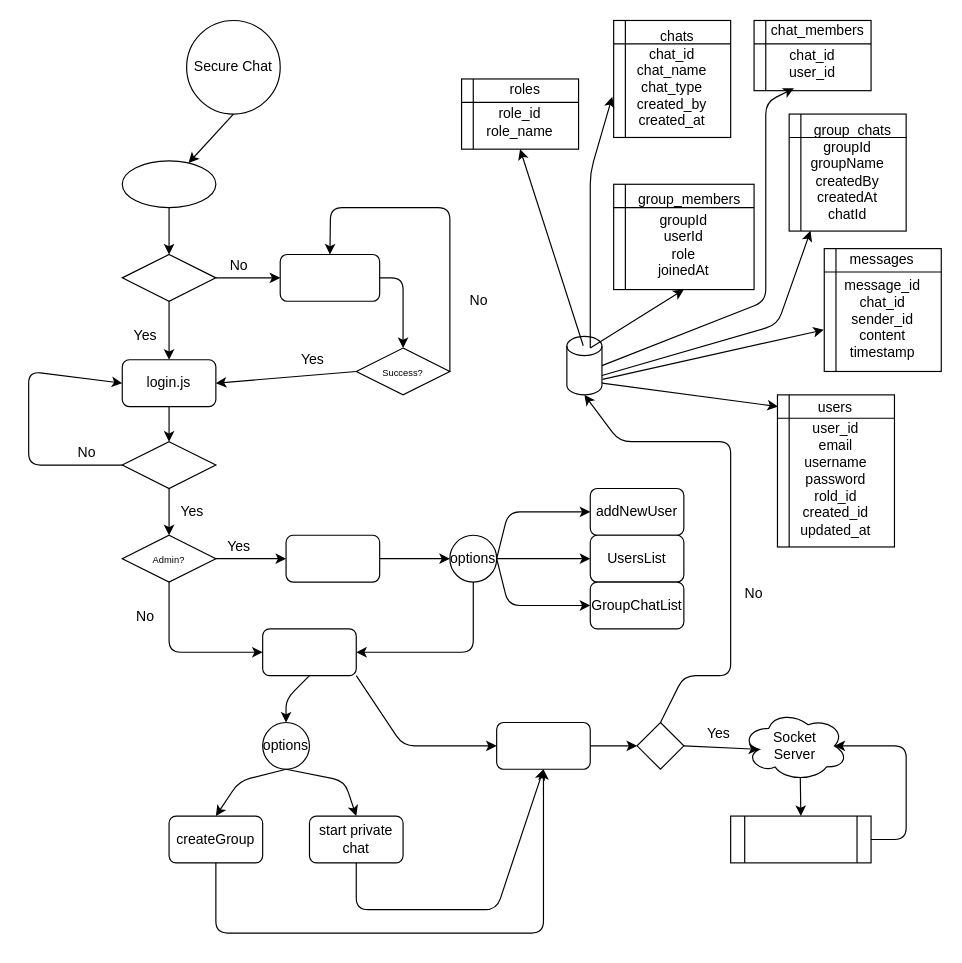
The diagram is 962 pixels wide and 963 high, and some of its shapes have lost their labels. The centre of each missing label's shape, as x and y in pixels:
admin Dashboard.js: (332,558)
chatroom.js: (542,745)
chats.js: (308,652)
Communication: (800,839)
Logged in?: (168,464)
Online?: (660,745)
register.js: (329,277)
REGISTERED?: (168,277)
SQL: (584,365)
START: (168,184)
